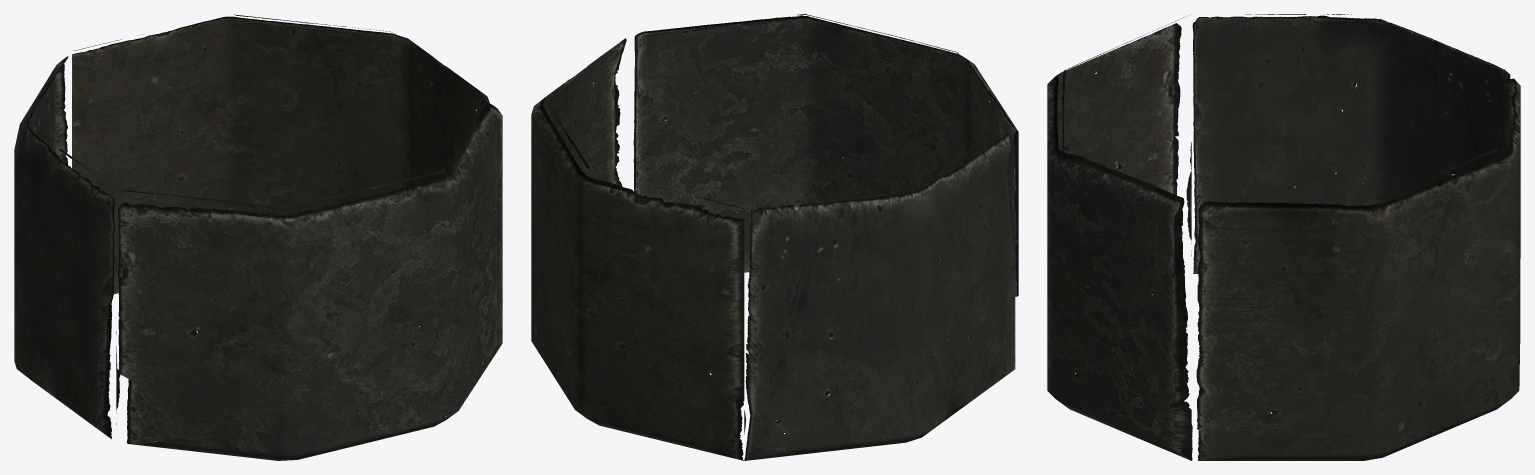
3 views of the same model, side by side, from view 1: azimuth 30°, elevation 25°; view 2: azimuth 150°, elevation 25°; view 3: azimuth 270°, elevation 25° (orthographic). The views are drawn at different scales.
Parts seen in each view (by area): view 1: SM_Greathall_Corner_02_LOD0; view 2: SM_Greathall_Corner_02_LOD0; view 3: SM_Greathall_Corner_02_LOD0.
Boxes of the visible parts, x1,y1,x2,y2 form: SM_Greathall_Corner_02_LOD0: [14, 14, 502, 460]; SM_Greathall_Corner_02_LOD0: [531, 14, 1018, 460]; SM_Greathall_Corner_02_LOD0: [1047, 14, 1520, 460].
Bounding box in the file's own units: 2.86 × 1.73 × 2.85.
